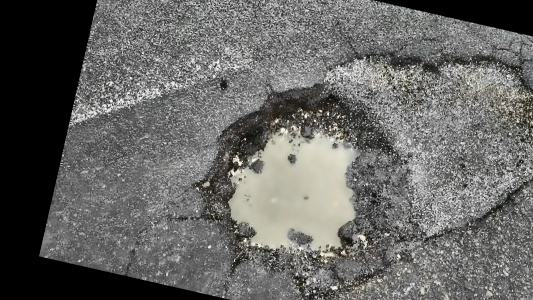pothole: (183, 58, 408, 290)
